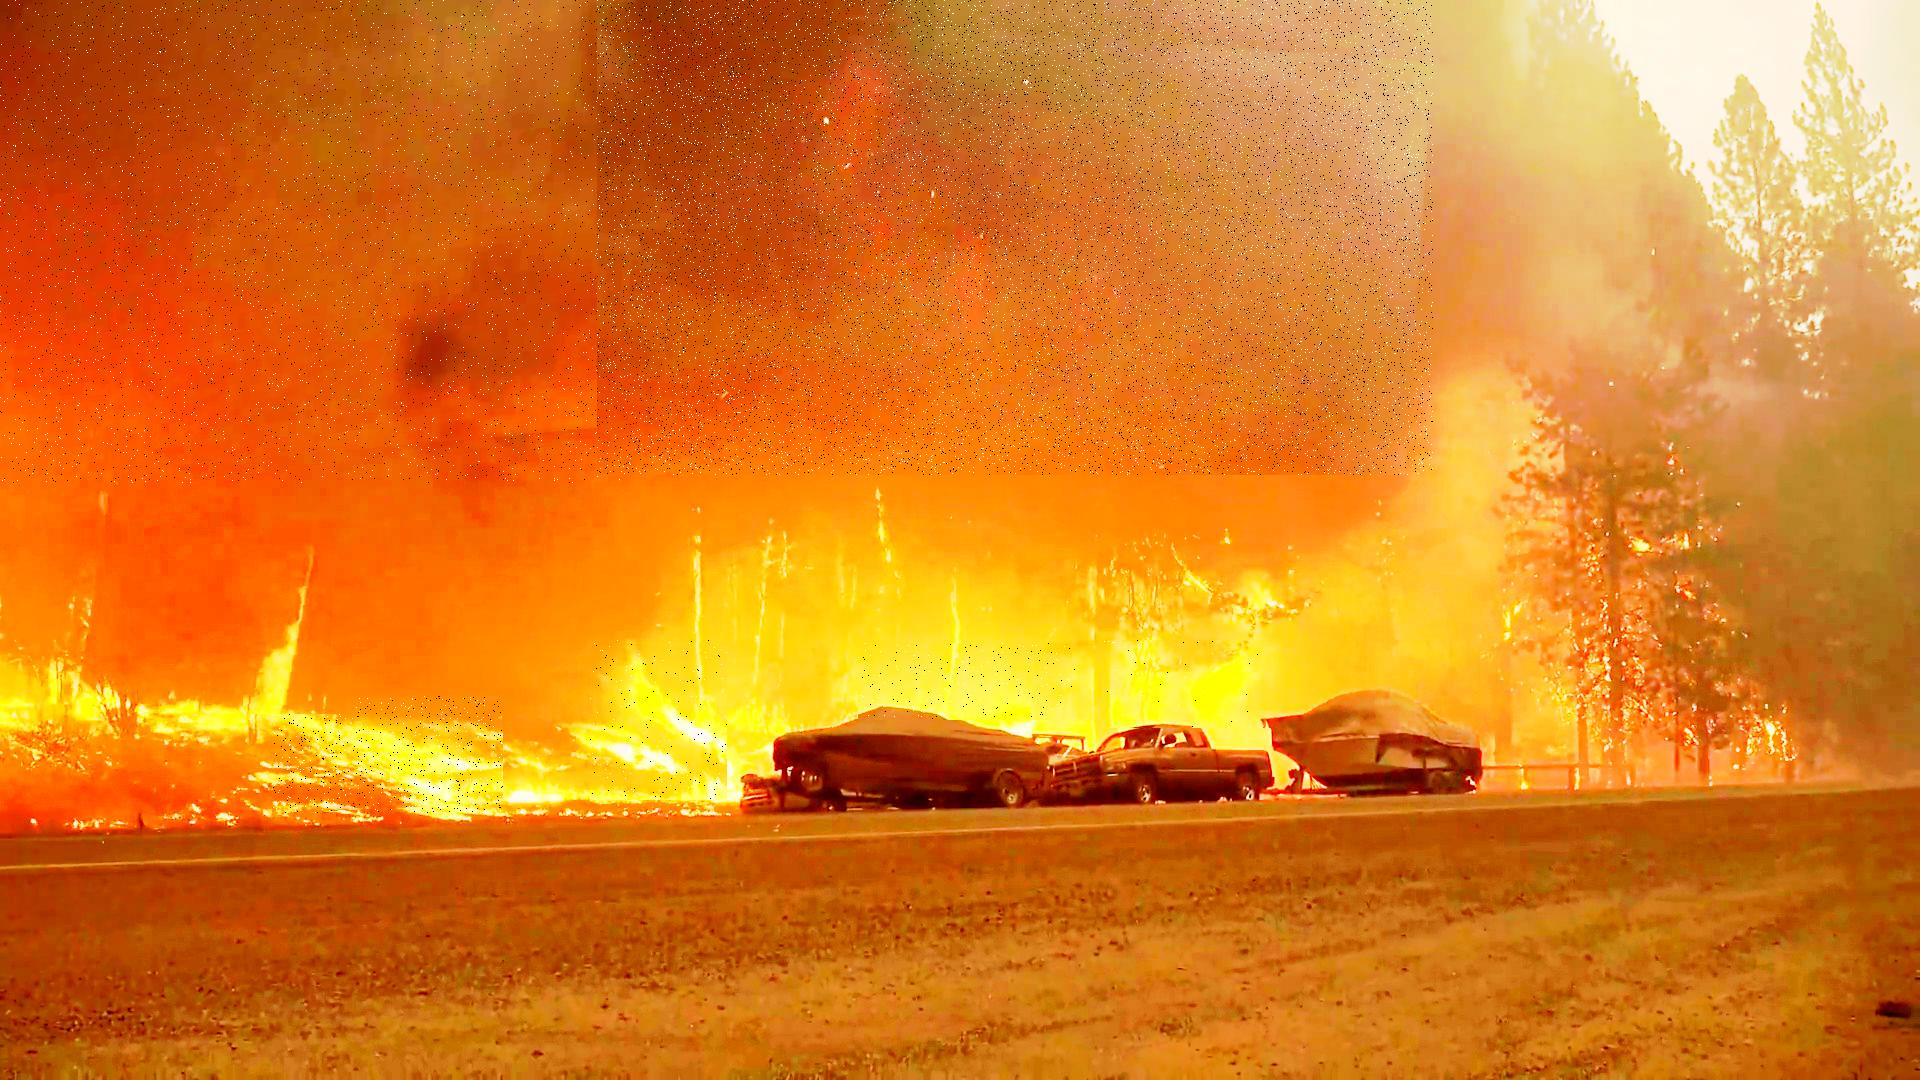fire: (273, 696, 504, 814), (591, 641, 728, 800), (244, 560, 356, 715), (858, 644, 1076, 720), (1102, 641, 1273, 728)
smoke: (597, 0, 1433, 475), (0, 0, 641, 483)
